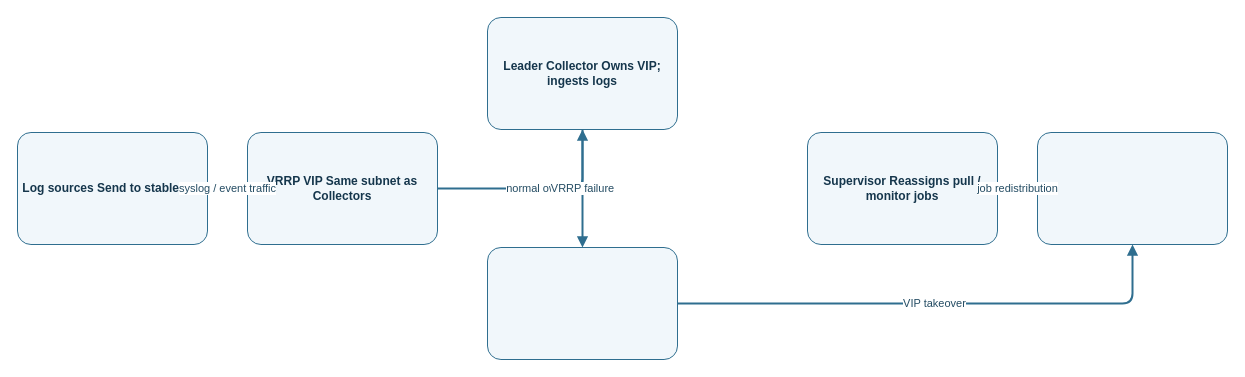
The diagram is 1245 pixels wide and 377 high, and some of its shapes have lost their labels. The shapes that lost their labels are listed below. From the top down, each one's centre as x and y in pixels, then its label:
[1132,188]: New Leader Follower owns VIP on failover
[582,303]: Follower Collector Higher-priority standby
